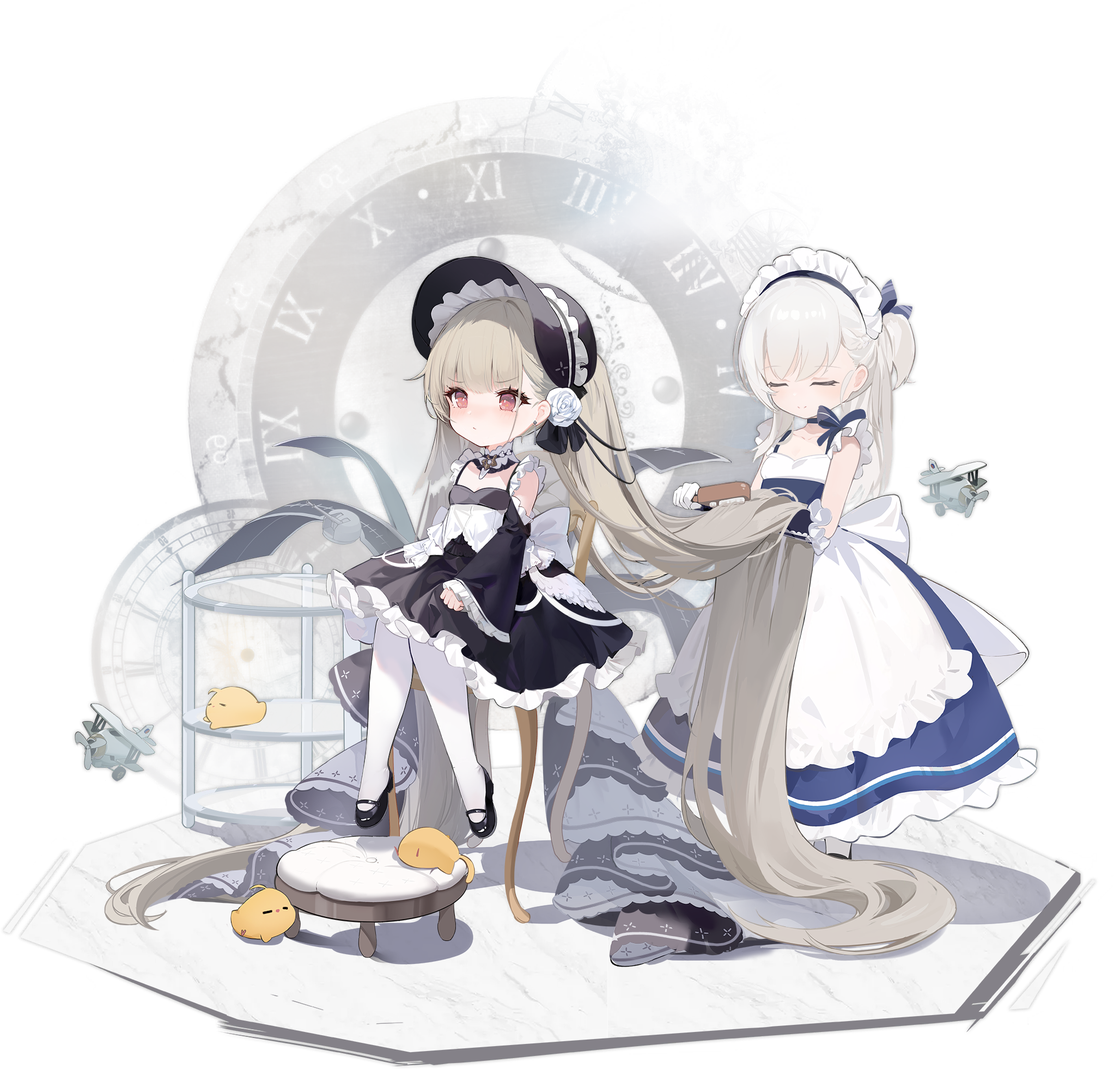person: (235, 230, 695, 916)
